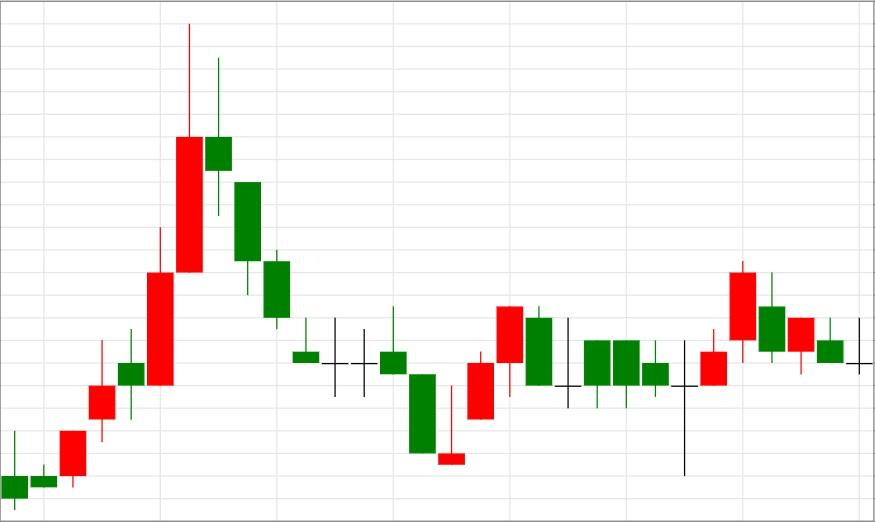three_black_crows_fall: (0, 24, 291, 510)
